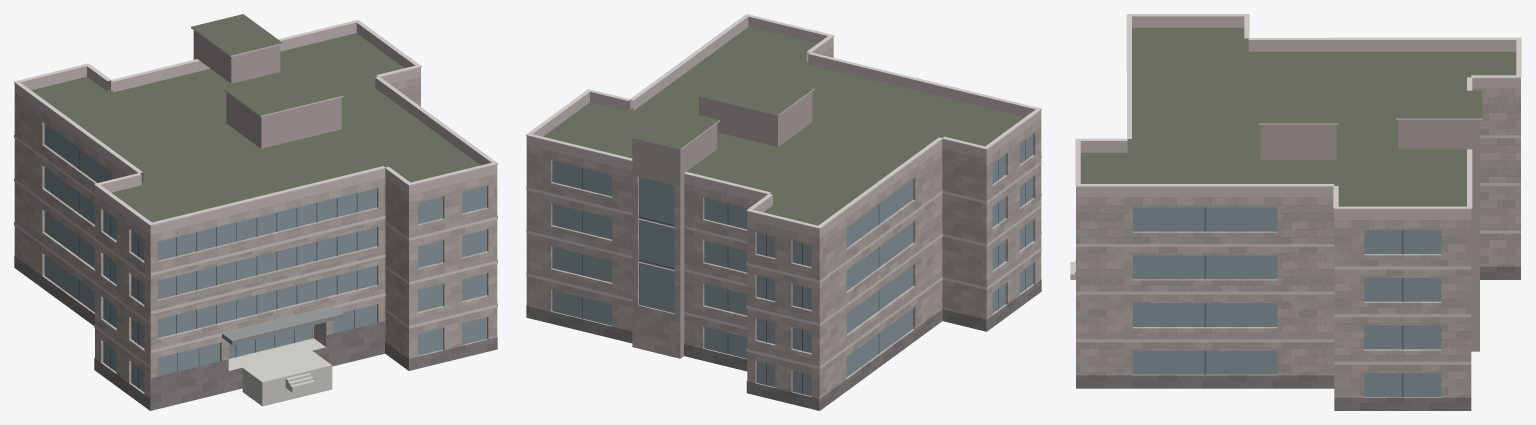
The picture shows the model from 3 angles, left to right: view 1: azimuth 30°, elevation 25°; view 2: azimuth 150°, elevation 25°; view 3: azimuth 270°, elevation 25°; orthographic projection. The views are drawn at different scales.
Visible parts, largest first — view 1: b902__wall, b902__roof, b902__glass, b902__parapet, b902__trim, b902__base, b902__wall2, b902__entranceStair, b902__canopy, b902__frame; view 2: b902__wall, b902__roof, b902__glass, b902__parapet, b902__trim, b902__wall2, b902__base, b902__frame; view 3: b902__wall, b902__roof, b902__glass, b902__trim, b902__parapet, b902__wall2, b902__base.
Boxes of the visible parts, x1=… form: b902__wall: x1=14, y1=77, x2=497, y2=410; b902__roof: x1=31, y1=14, x2=480, y2=410; b902__glass: x1=44, y1=124, x2=486, y2=391; b902__parapet: x1=14, y1=22, x2=497, y2=235; b902__trim: x1=14, y1=20, x2=497, y2=368; b902__base: x1=14, y1=255, x2=497, y2=410; b902__wall2: x1=193, y1=30, x2=341, y2=148; b902__entranceStair: x1=228, y1=338, x2=332, y2=406; b902__canopy: x1=221, y1=306, x2=343, y2=345; b902__frame: x1=79, y1=149, x2=357, y2=388; b902__wall: x1=526, y1=46, x2=1041, y2=410; b902__roof: x1=543, y1=27, x2=1024, y2=225; b902__glass: x1=552, y1=134, x2=1032, y2=396; b902__parapet: x1=526, y1=16, x2=1041, y2=238; b902__trim: x1=526, y1=14, x2=1041, y2=368; b902__wall2: x1=632, y1=91, x2=812, y2=358; b902__base: x1=526, y1=280, x2=1041, y2=410; b902__frame: x1=582, y1=139, x2=1025, y2=394; b902__wall: x1=1076, y1=88, x2=1520, y2=397; b902__roof: x1=1080, y1=27, x2=1520, y2=279; b902__glass: x1=1133, y1=207, x2=1441, y2=396; b902__trim: x1=1075, y1=14, x2=1521, y2=364; b902__parapet: x1=1076, y1=16, x2=1520, y2=219; b902__wall2: x1=1260, y1=120, x2=1479, y2=351; b902__base: x1=1076, y1=266, x2=1520, y2=410.
Bounding box in the file's own units: 31.53 × 17.97 × 30.88.
Materials: 11 (2 with a texture image).
